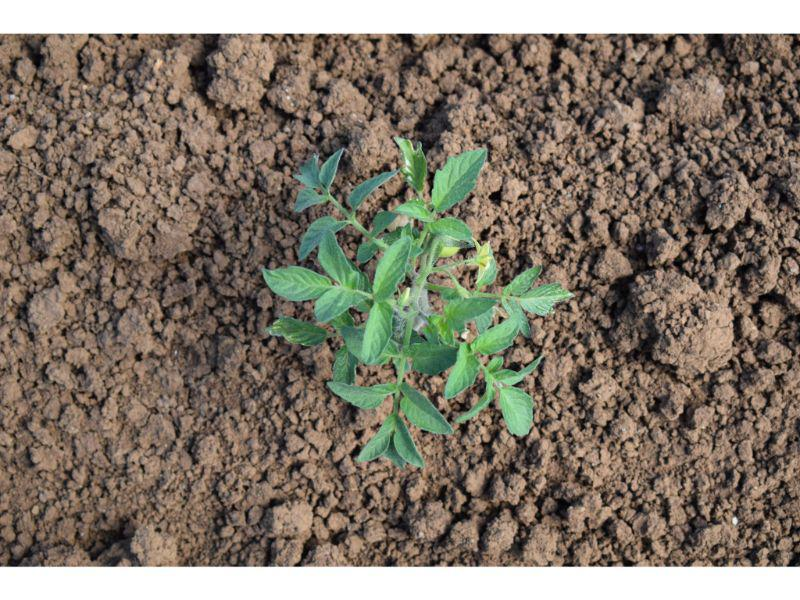tomato: (266, 132, 573, 466)
